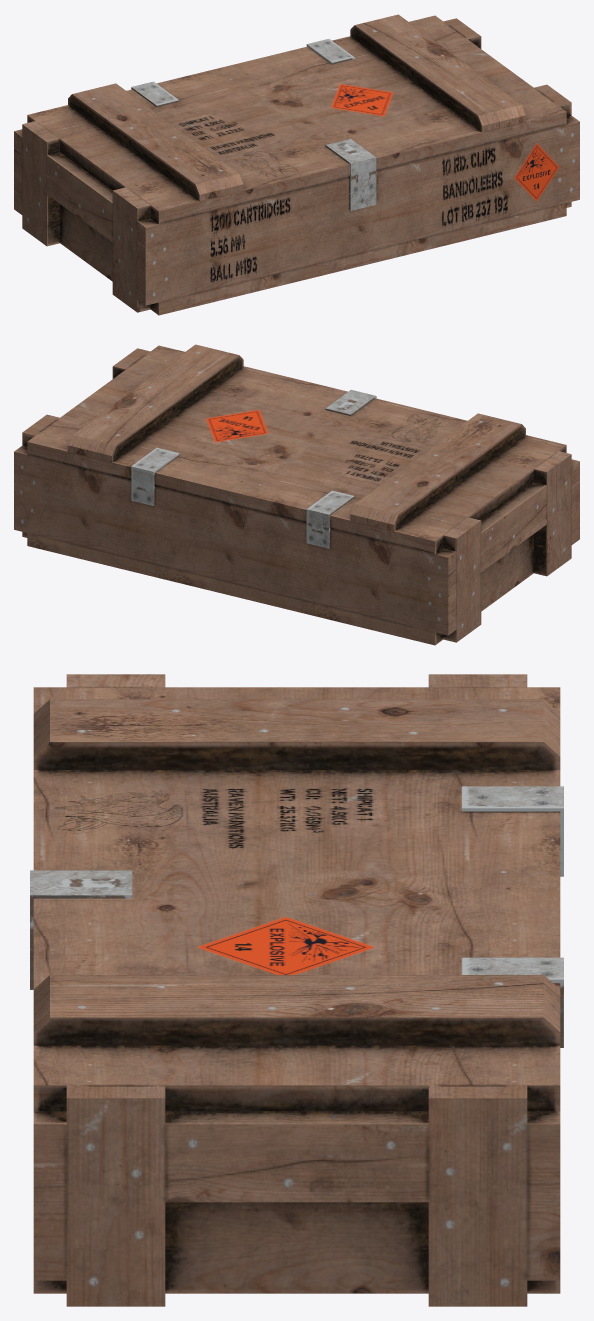
The model's file is W_Weapons_Crate.fbx.
3 renders of one model, top to bottom at view 1: azimuth 30°, elevation 25°; view 2: azimuth 150°, elevation 25°; view 3: azimuth 270°, elevation 25°, orthographic. The views are drawn at different scales.
Parts seen in each view (by area): view 1: ammobox_wood_1_low; view 2: ammobox_wood_1_low; view 3: ammobox_wood_1_low.
Boxes of the visible parts, <box> form: ammobox_wood_1_low: <box>14,14,579,315</box>; ammobox_wood_1_low: <box>14,344,579,645</box>; ammobox_wood_1_low: <box>30,674,563,1306</box>.
Size of the model in its own units: 0.8383 by 0.2178 by 0.4465.
